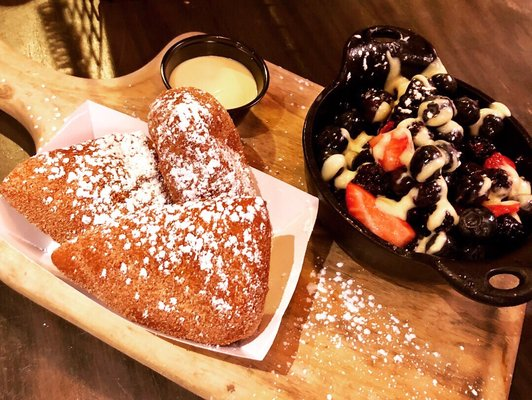pizza: (159, 33, 270, 128)
sushi: (301, 23, 532, 309), (158, 33, 270, 127)
